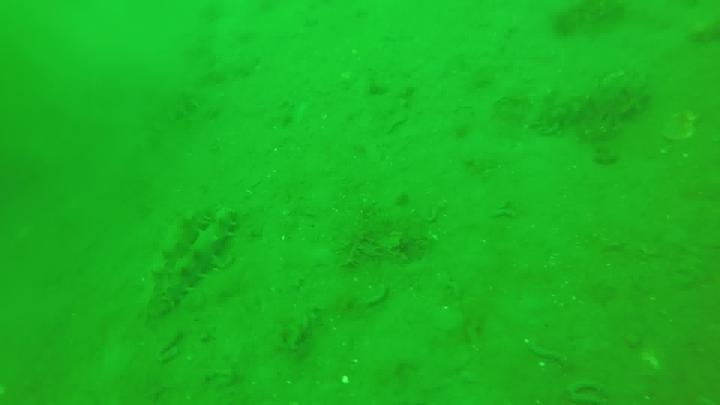holothurian: (142, 208, 243, 316)
scallop: (664, 111, 699, 145)
